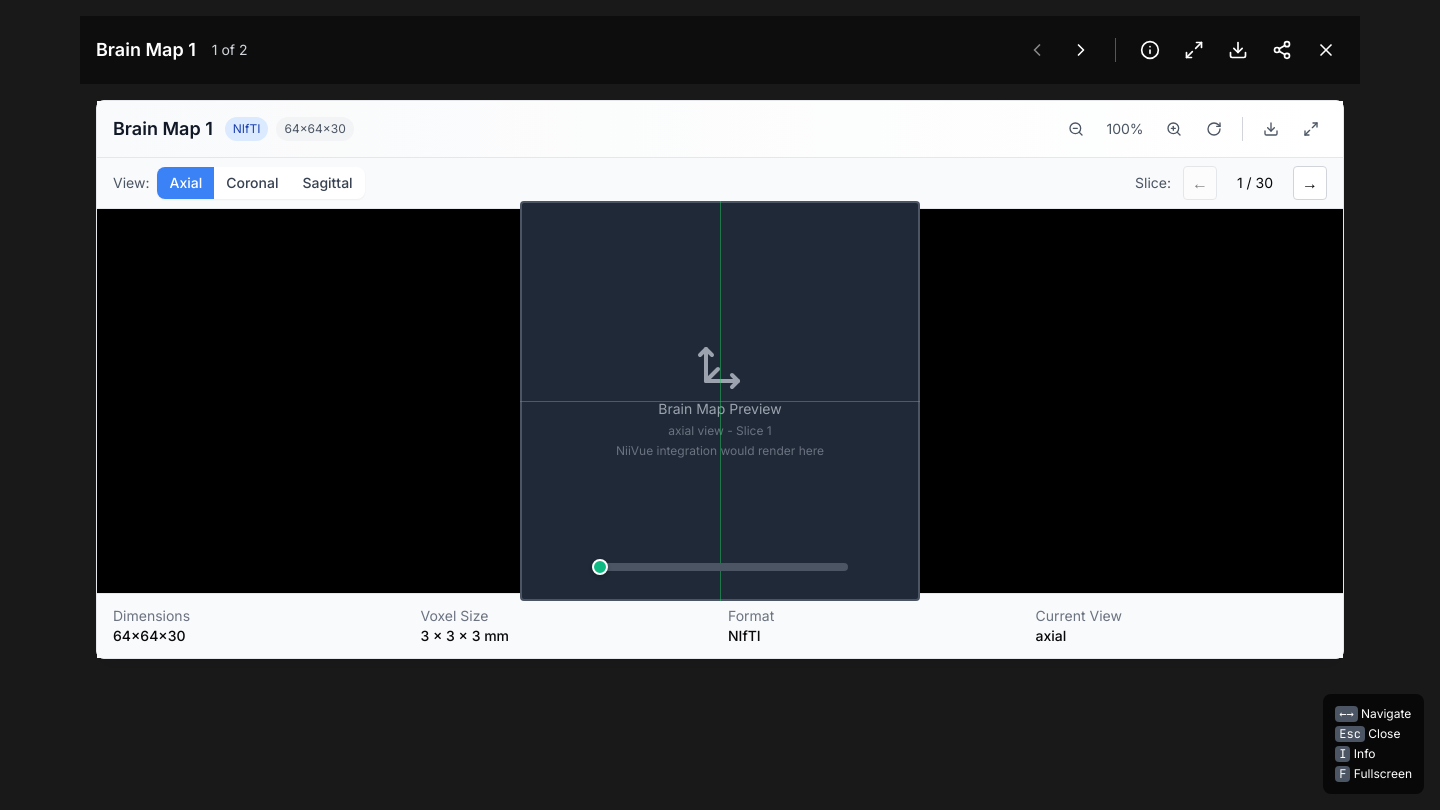
Test: Lightbox › Info Panel › toggles info panel visibility
Check: the text "Item Details" is not shown
Click the button titled "Toggle info (i)" at {"x": 1150, "y": 50}, box [1132,32,1168,68]
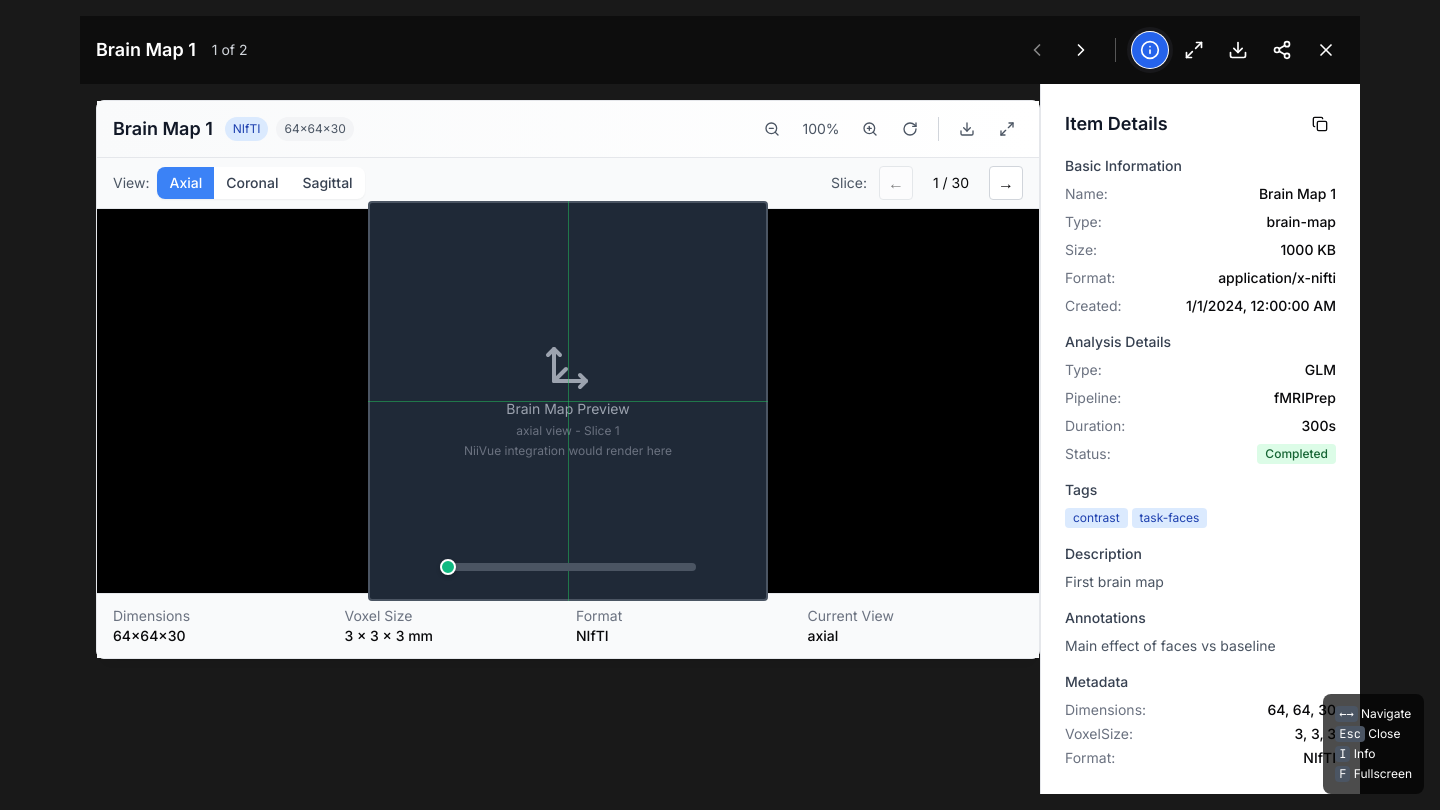
Check: the heading "Item Details" is shown, box [1065,110,1168,138]
